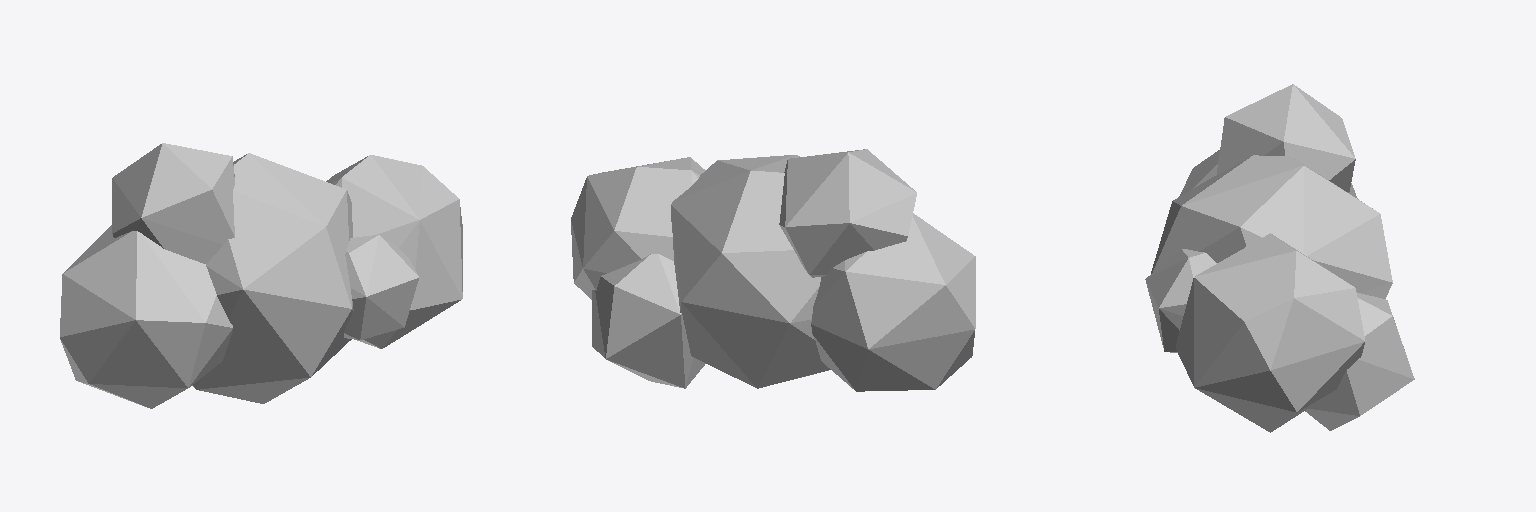
Rendered from cloud4tex.obj.
The picture shows the model from 3 angles: view 1: azimuth 30°, elevation 25°; view 2: azimuth 150°, elevation 25°; view 3: azimuth 270°, elevation 25°; orthographic projection.
Parts seen in each view (by area): view 1: Object.1; view 2: Object.1; view 3: Object.1.
Part boxes in pixels (bbox=[...]): Object.1: bbox=[60, 143, 462, 408]; Object.1: bbox=[571, 149, 975, 391]; Object.1: bbox=[1145, 84, 1414, 432].
Size of the model in its own units: 96.05 by 58.91 by 55.55.